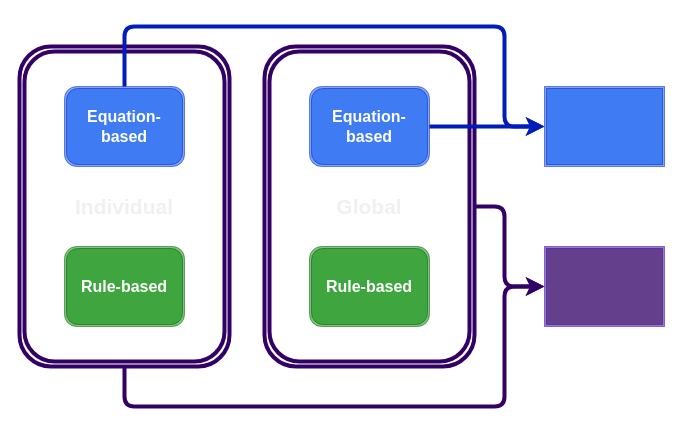
Image size: 682x433. Some labels were removed from this diagram. Each missing label, with the centre of its shape:
"IBM simulator" belongs at point 604,286.
"ODE simulator" belongs at point 604,126.
